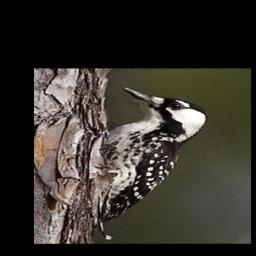Woodpecker: (87, 86, 212, 222)
